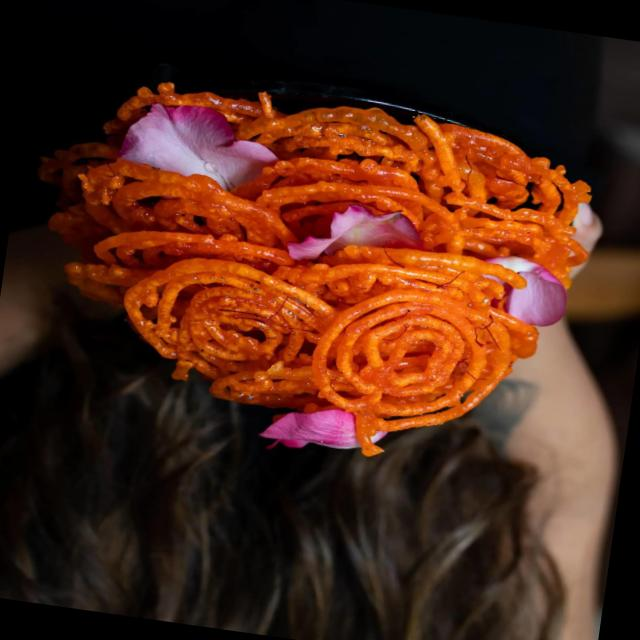jalebi: (60, 75, 611, 471)
